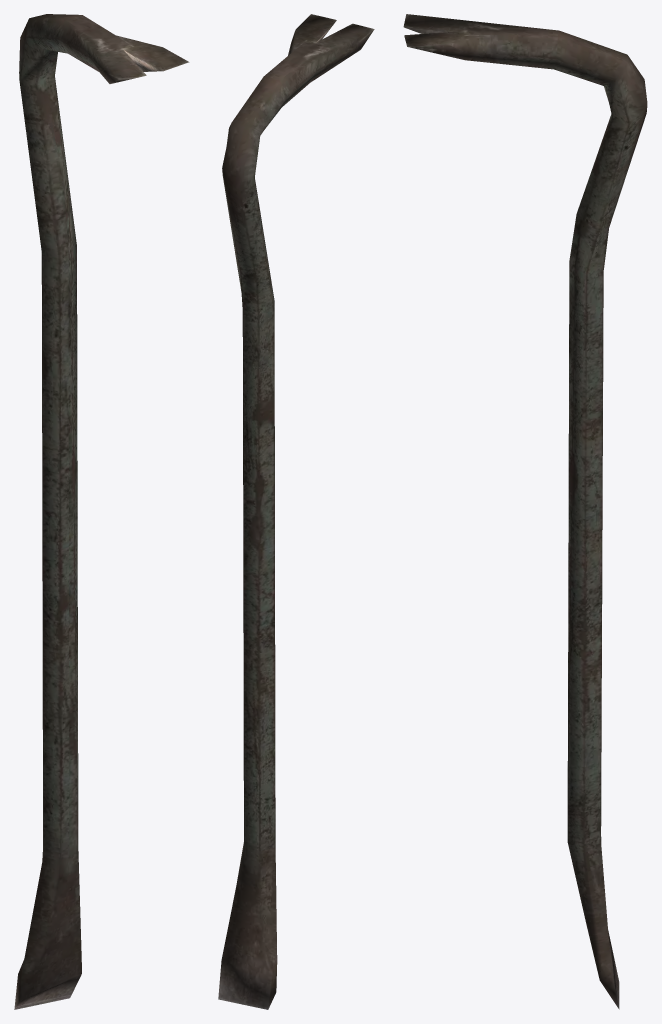
The model's file is crowbar_01.glb.
3 renders of one model, left to right at view 1: azimuth 30°, elevation 25°; view 2: azimuth 150°, elevation 25°; view 3: azimuth 270°, elevation 25°, orthographic. The views are drawn at different scales.
Visible parts, largest first — view 1: crowbar_01; view 2: crowbar_01; view 3: crowbar_01.
Part boxes in pixels (bbox=[...]): crowbar_01: bbox=[14, 14, 189, 1009]; crowbar_01: bbox=[218, 14, 374, 1009]; crowbar_01: bbox=[403, 14, 647, 1009].
Size of the model in its own units: 0.0404 by 0.555 by 0.1269.
Materials: 1 (1 with a texture image).
